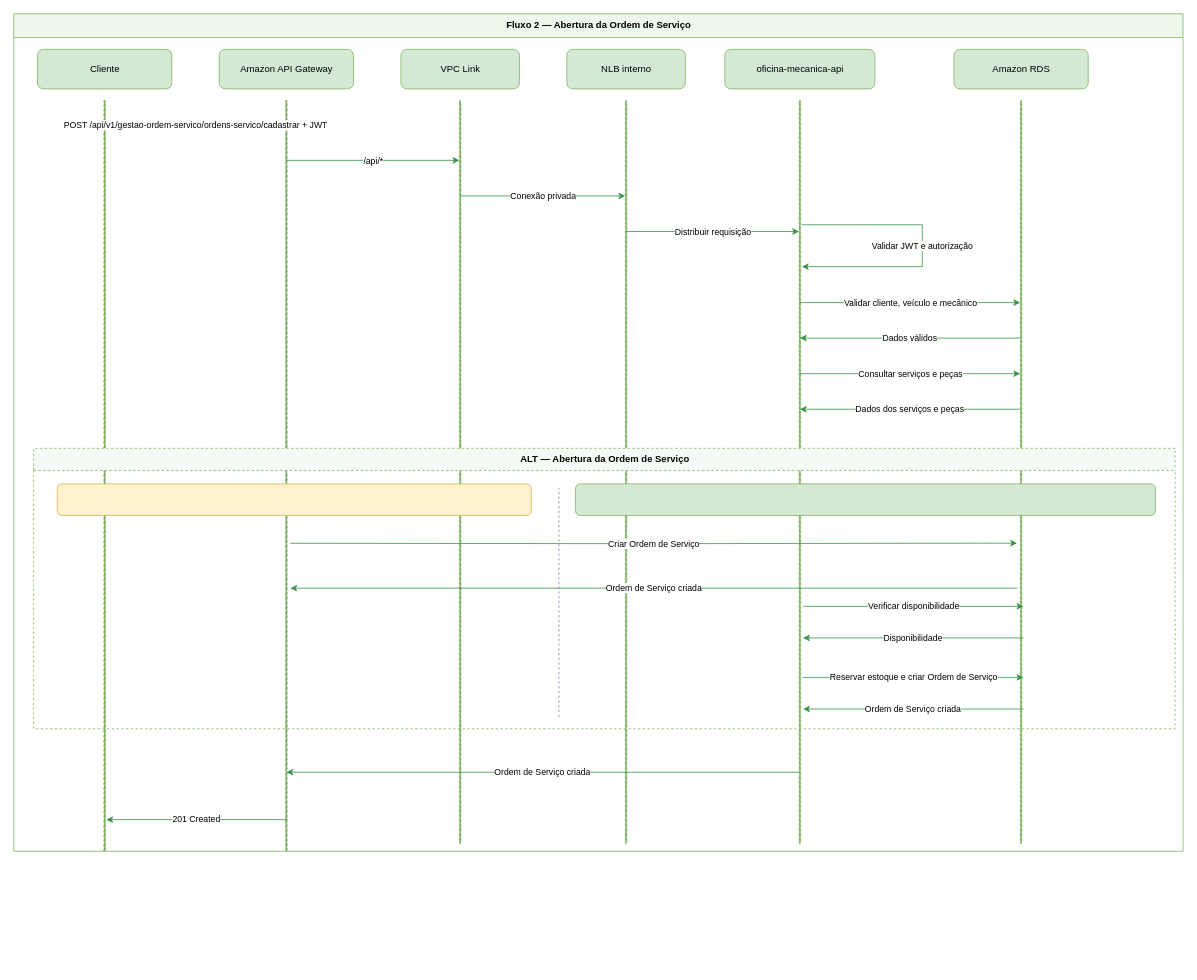
This 1197x980 diagram has some shape labels left out. Here are the shapes that lost their labels. From the top down, the box of each, then its label:
(56, 483, 531, 515): Sem peças
(575, 483, 1155, 515): Com peças
